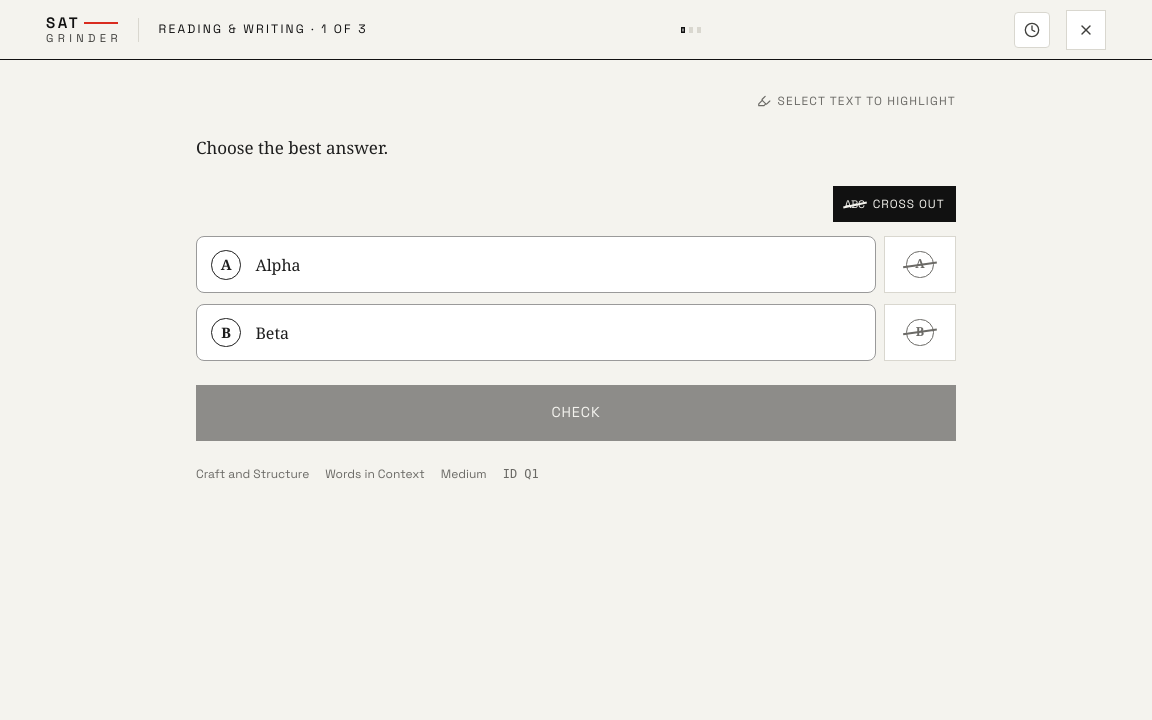
Test: SetCard › records a miss inline and colours the strip
What coordinates should you click on to do the following:
click the radio button labelled "A Alpha"
I would click on:
 (278, 265)
Its box is [196,236,876,293].
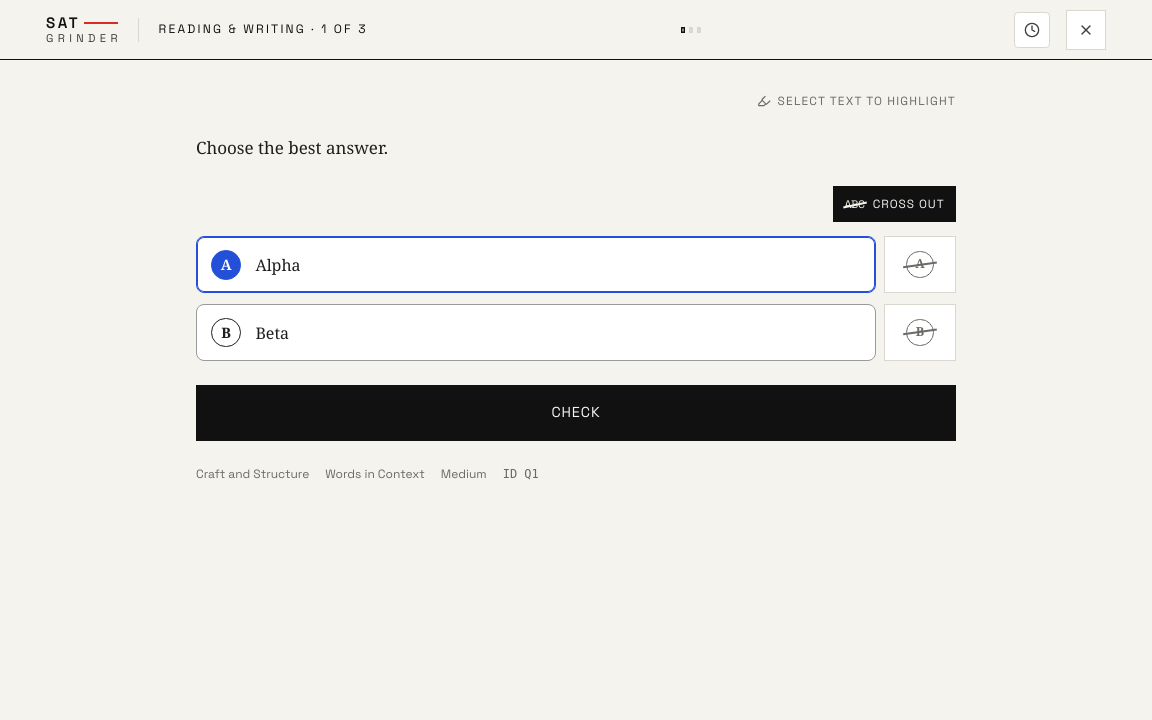
What coordinates should you click on to do the following:
click the button "Check"
I would click on:
 (576, 413)
Its box is [196,385,956,441].
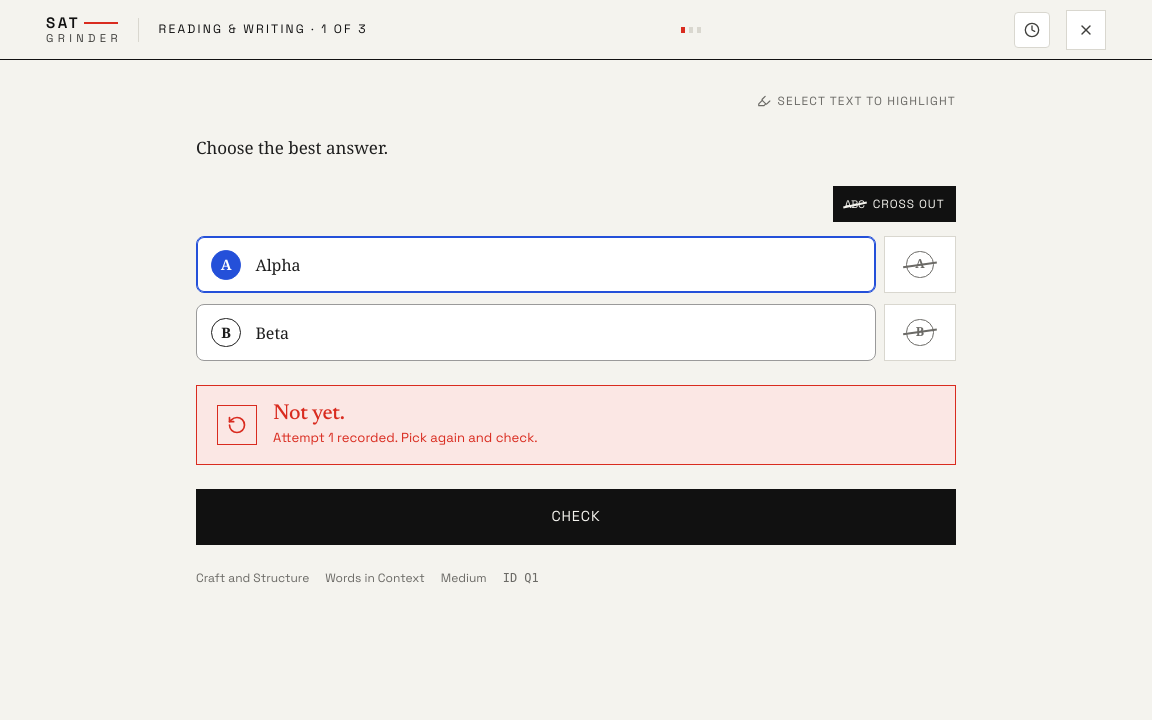
Check: the button "Check" is shown, box [196,489,956,545]
Check: the heading "Not yet." is shown, box [273,403,345,425]
Check: the text "Attempt 1 recorded. Pick again and check." is shown, box [273,429,538,446]
